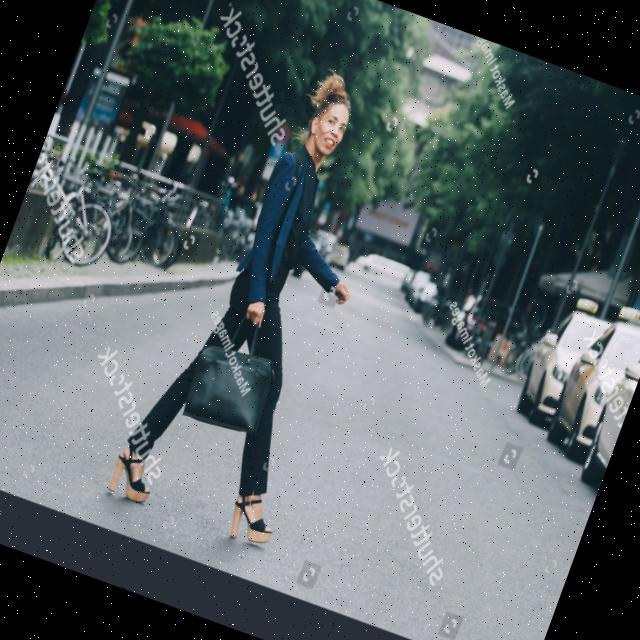Person: (105, 49, 428, 554)
